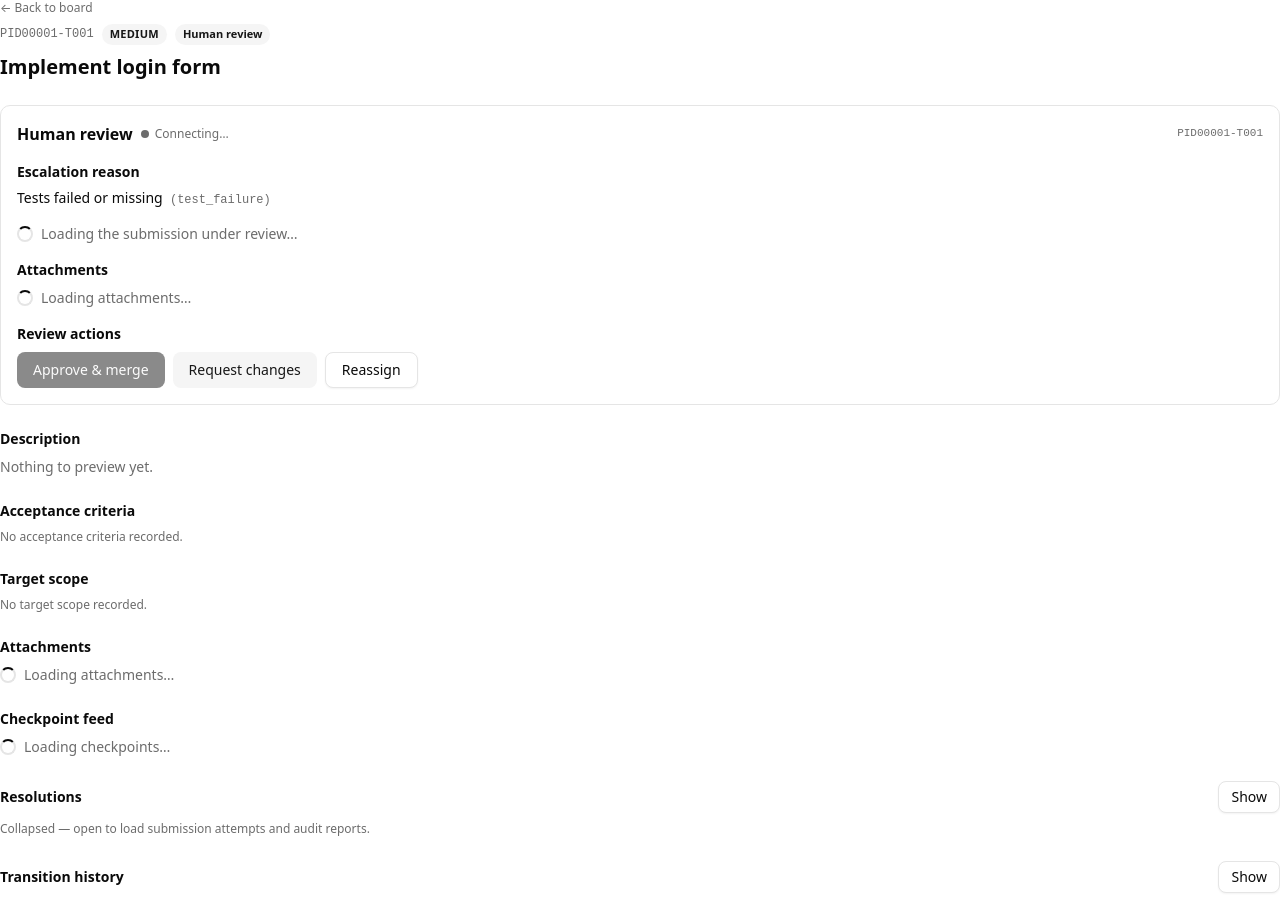
Test: ReviewPanel actions (MT-4.8-03) › request changes enforces the note, sends it, and the task returns to pending
This screenshot has width=1280, height=900.
Click the button with test id "review-request-changes-open": (245, 370) [172,352,317,388]
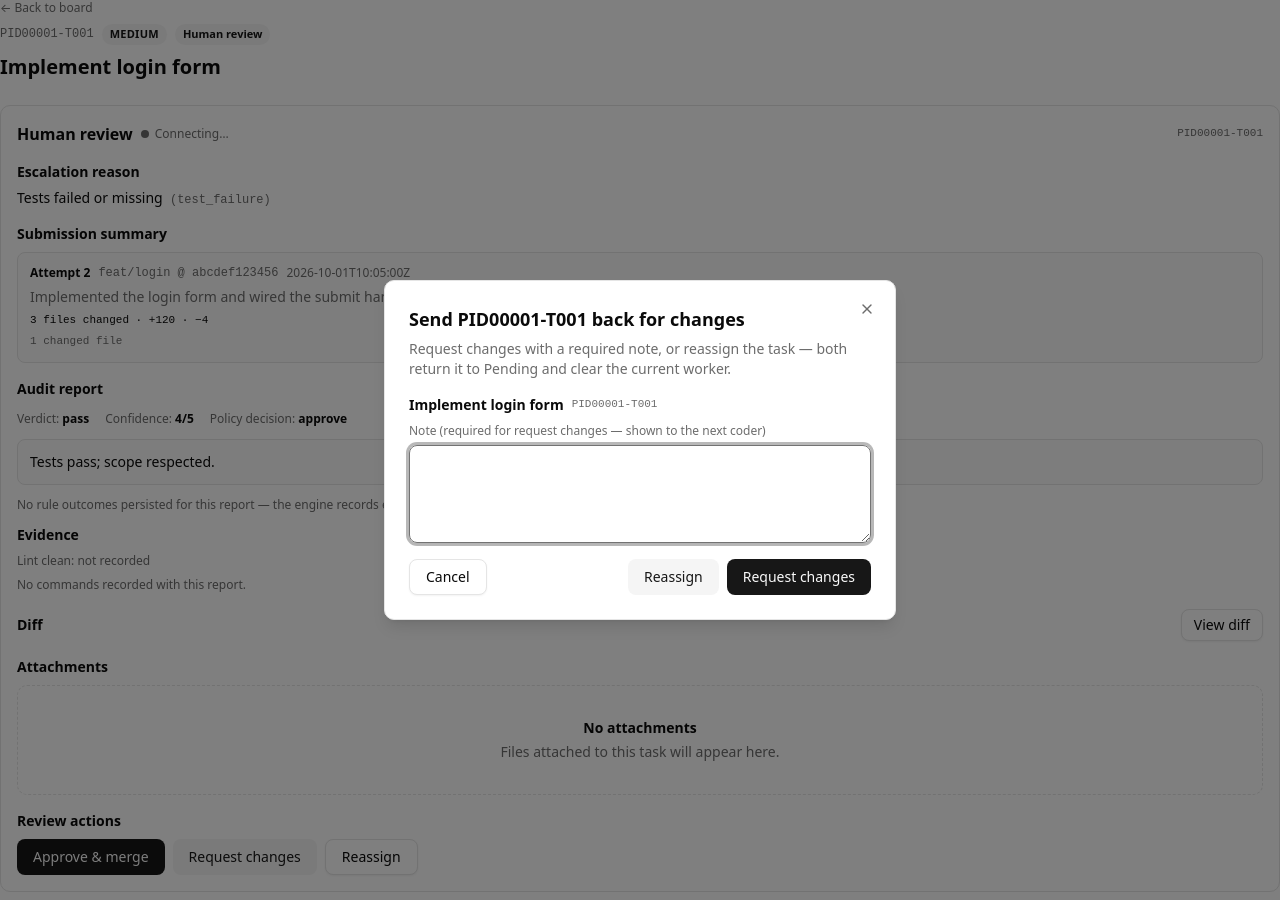
Result: the dialog with test id "request-changes-dialog" is shown at [384,280,896,620]
Click the button with test id "request-changes-confirm": (799, 577) [727,559,871,595]
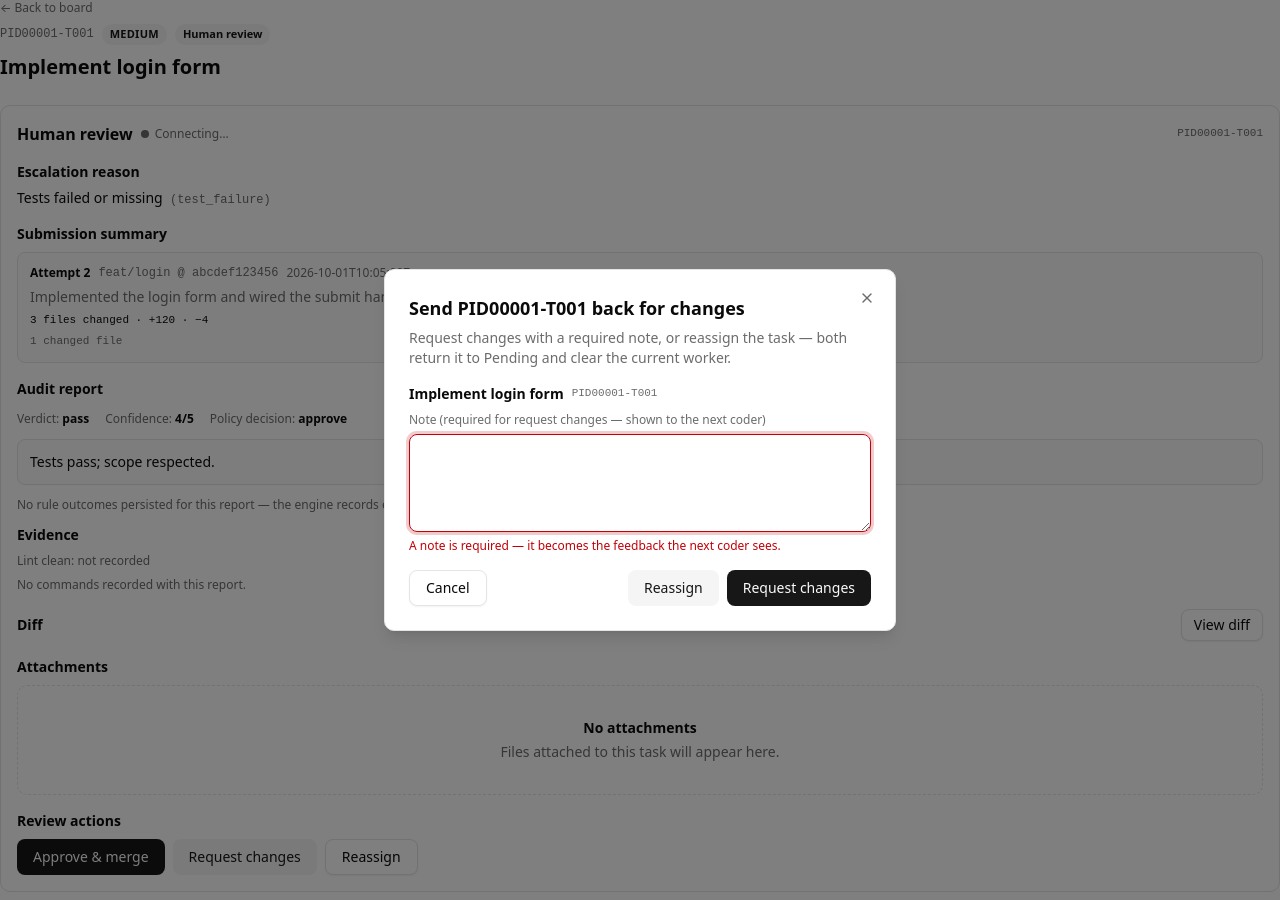
Result: the text with test id "request-changes-note-error" is shown at [409,537,781,554]
In the text box with test id "request-changes-note": (640, 483) [409,434,871,532], type "Narrow the scope."
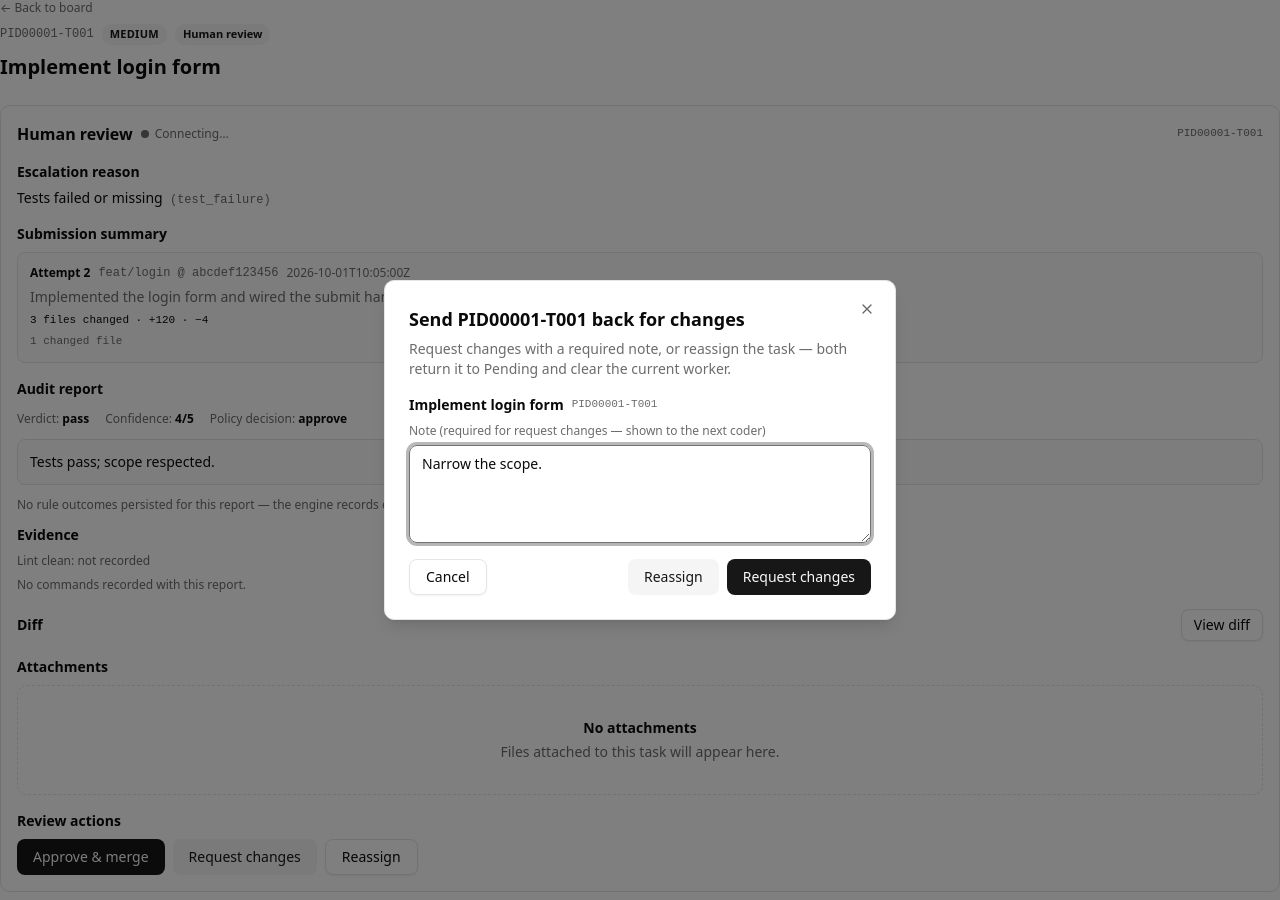
Click the button with test id "request-changes-confirm": (799, 577) [727,559,871,595]
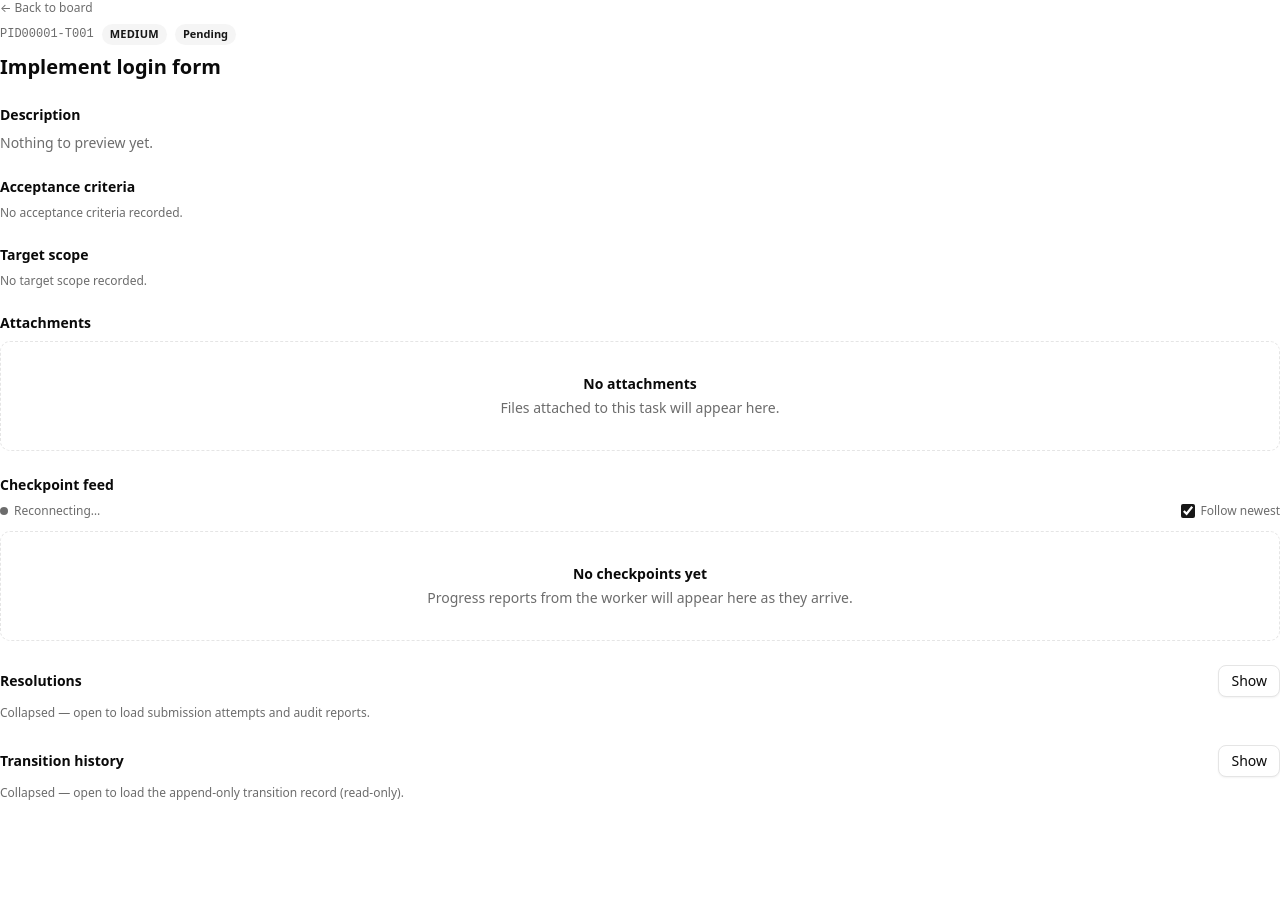
Result: the element with test id "review-panel" is gone
Result: the text with test id "task-detail-state" reads "Pending" at [183,26,228,41]
